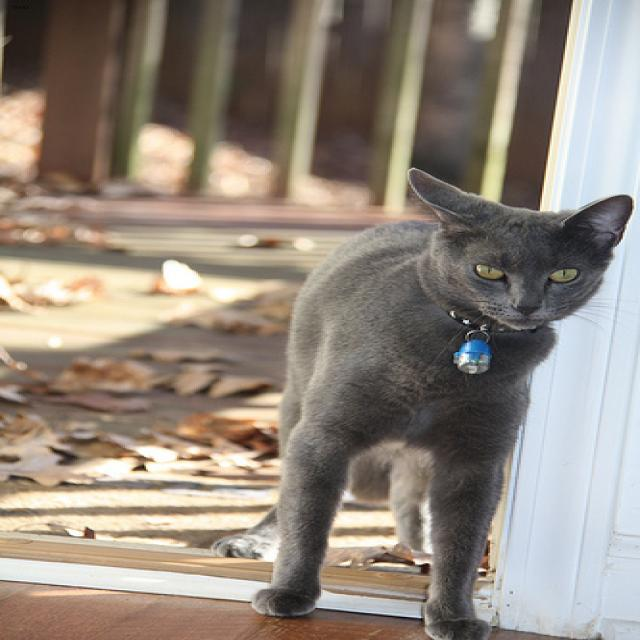cat: (406, 166, 630, 326)
